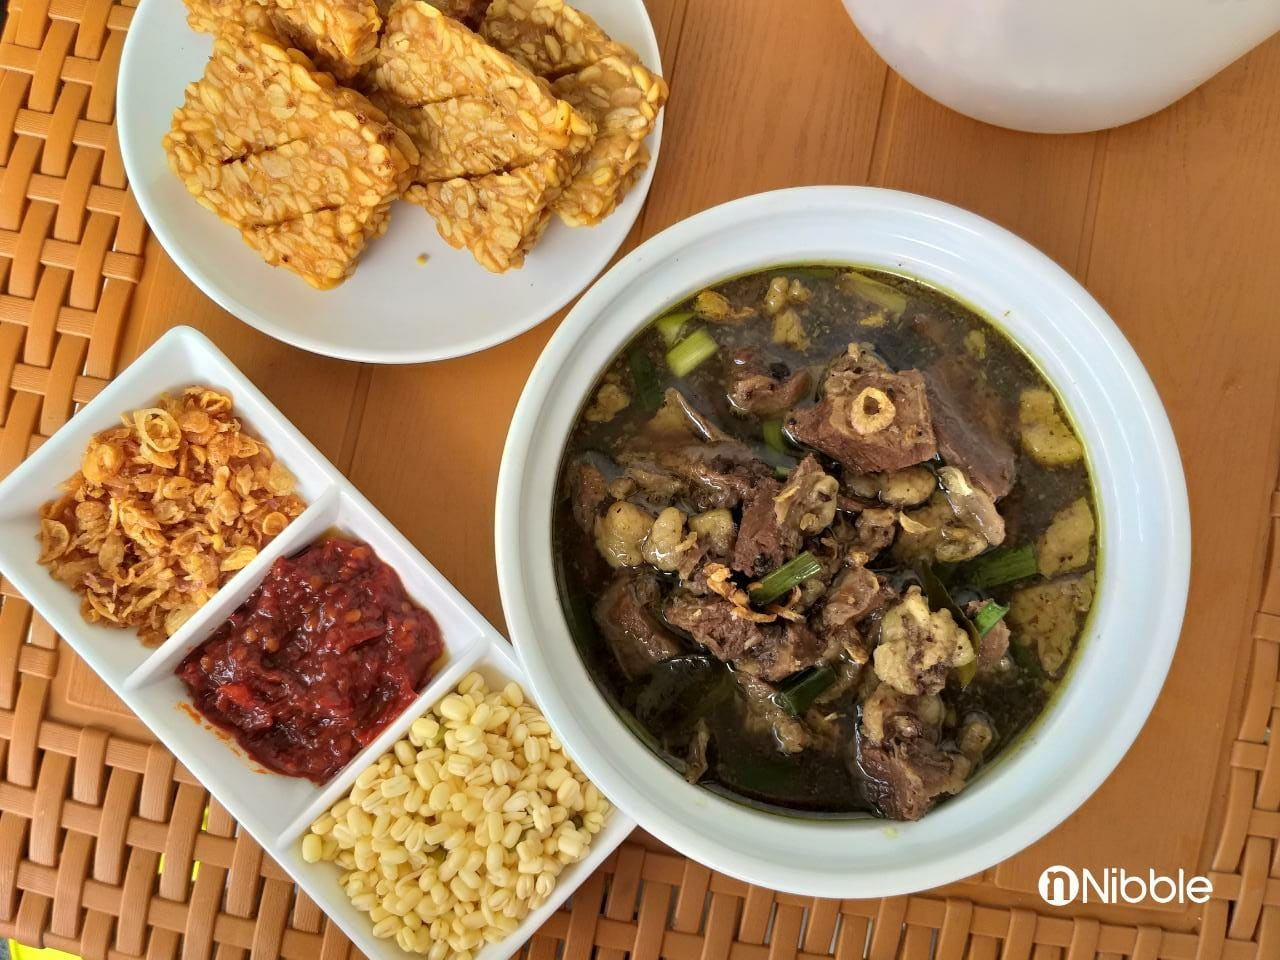rawon: (438, 232, 1233, 920)
